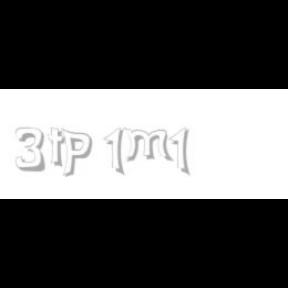1: (103, 128, 125, 176), (168, 128, 190, 176)
3: (16, 128, 46, 172)
P: (60, 128, 92, 178)
m: (122, 128, 174, 162)
t: (48, 128, 70, 168)
